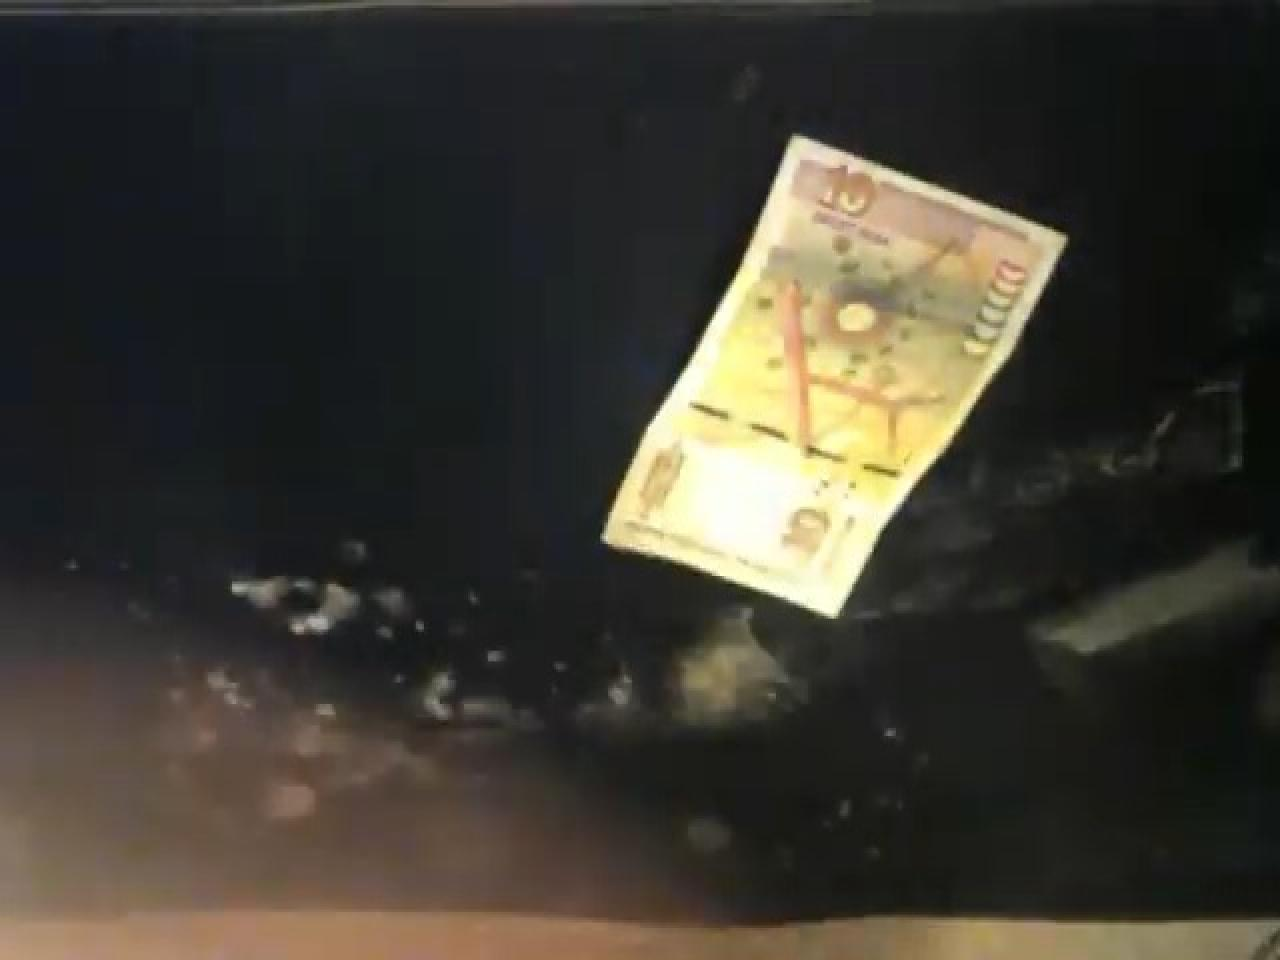10leva: (600, 131, 1070, 613)
